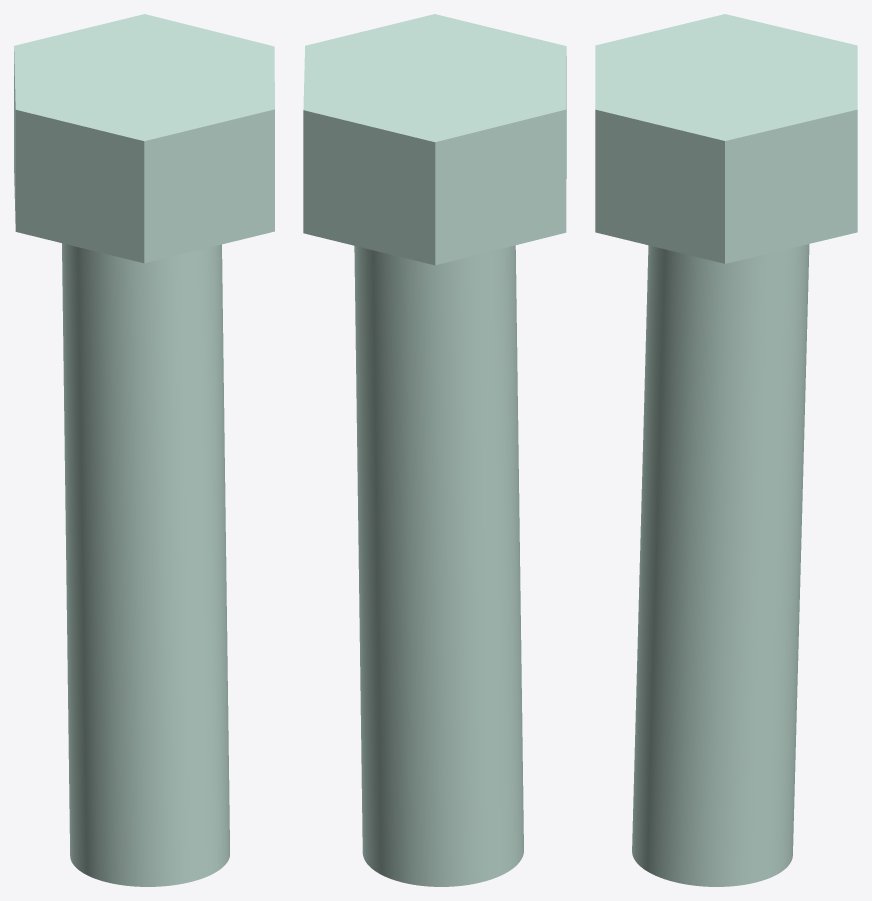
3 renders of one model, left to right at view 1: azimuth 30°, elevation 25°; view 2: azimuth 150°, elevation 25°; view 3: azimuth 270°, elevation 25°, orthographic.
Parts seen in each view (by area): view 1: Renderer Node; view 2: Renderer Node; view 3: Renderer Node.
Part boxes in pixels (left/top/right/bottom): Renderer Node: left=14, top=14, right=274, bottom=886; Renderer Node: left=303, top=14, right=566, bottom=886; Renderer Node: left=595, top=14, right=857, bottom=886.
Size of the model in its own units: 0.26 by 0.742 by 0.2266.
